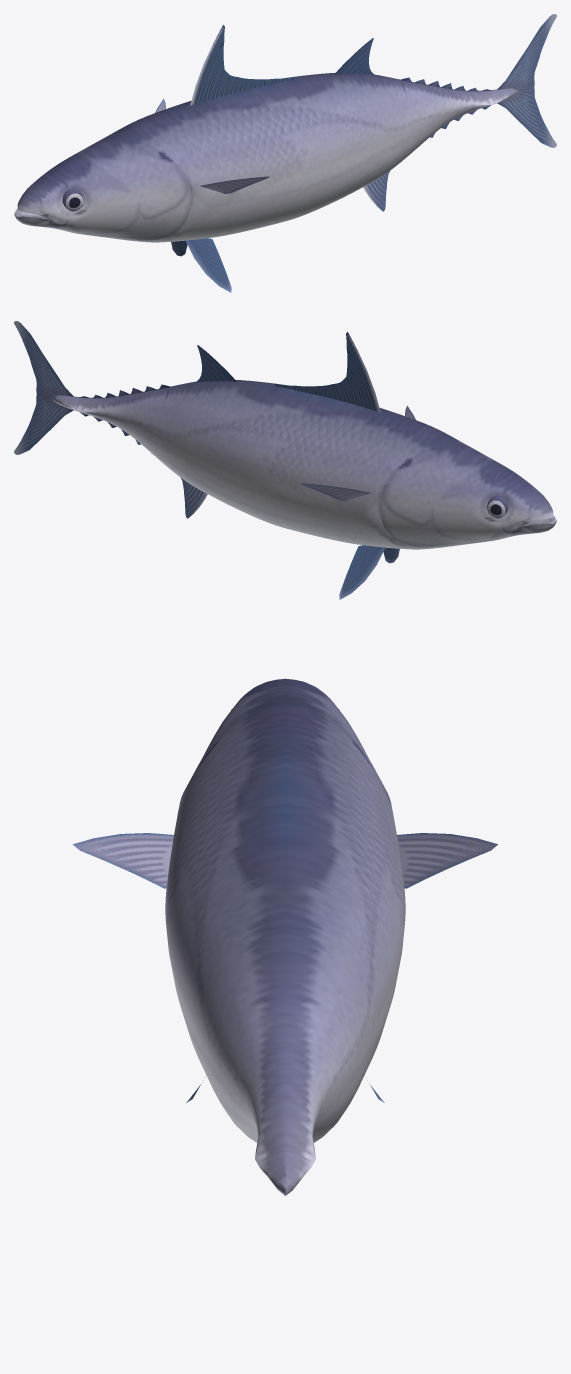
File: fish15.obj
The picture shows the model from 3 angles, top to bottom: view 1: azimuth 30°, elevation 25°; view 2: azimuth 150°, elevation 25°; view 3: azimuth 270°, elevation 25°; orthographic projection. The views are drawn at different scales.
Parts seen in each view (by area): view 1: object, object11, object2, object7, object3, object5, object9, object12; view 2: object, object11, object2, object8, object3, object6, object9, object13; view 3: object, object6, object5.
Boxes of the visible parts, x1,y1,x2,y2 form: object: [14, 73, 517, 242]; object11: [497, 14, 556, 147]; object2: [190, 25, 296, 105]; object7: [186, 238, 231, 292]; object3: [334, 38, 375, 75]; object5: [200, 176, 269, 193]; object9: [363, 170, 390, 211]; object12: [62, 188, 83, 211]; object: [53, 380, 556, 549]; object11: [14, 321, 73, 454]; object2: [274, 332, 380, 412]; object8: [339, 545, 384, 599]; object3: [195, 345, 236, 382]; object6: [301, 483, 370, 500]; object9: [180, 477, 207, 518]; object13: [487, 495, 508, 518]; object: [165, 678, 405, 1195]; object6: [397, 833, 497, 888]; object5: [73, 833, 173, 888].
Bounding box in the file's own units: 100 × 43.39 × 34.08.
1 material, 1 textured.
